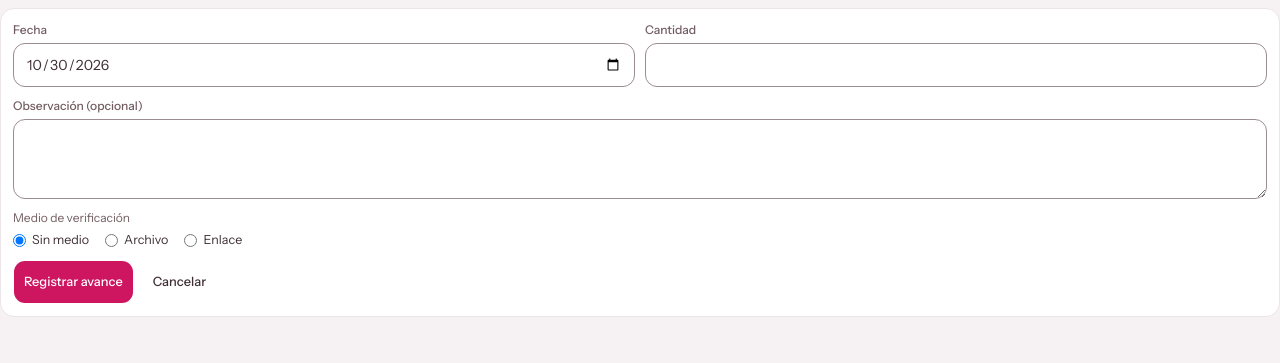
Scenario: EjecucionAvanceForm › surfaces the server 400 inline and does not close
Type "1" into the field labelled "Cantidad" at (956, 65), box [645,43,1267,87]
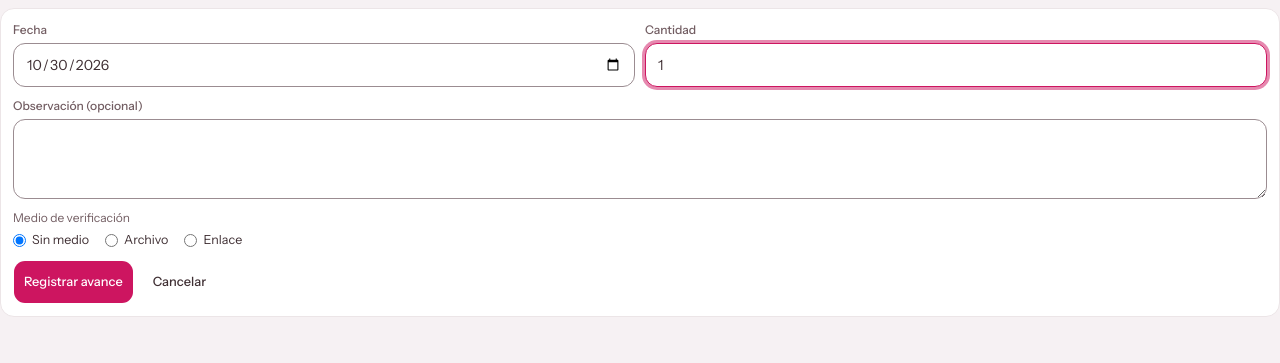
Click the button "Registrar avance" at (73, 282), box [13,260,134,304]
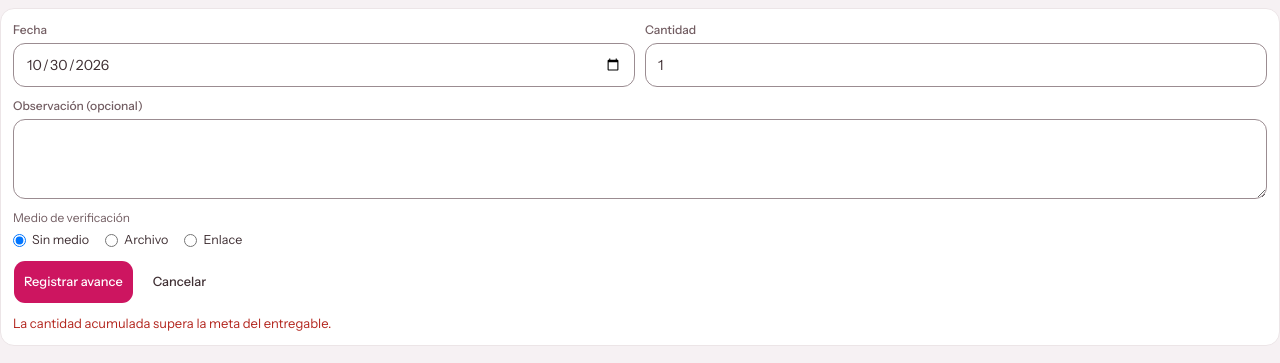
Result: the message reads "La cantidad acumulada supera la meta del entregable." at [13,315,331,331]
